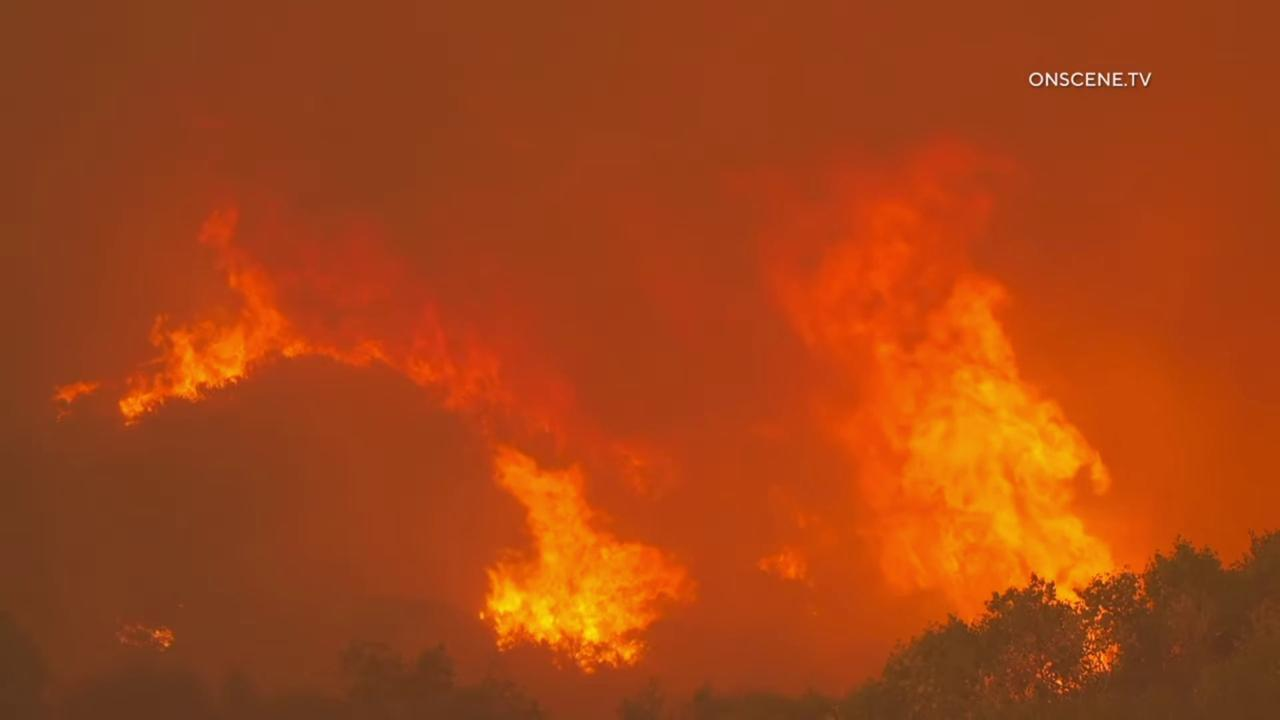fire: (114, 176, 711, 679), (752, 123, 1123, 689), (41, 368, 105, 425), (111, 618, 180, 659)
smoke: (0, 0, 1280, 720)
